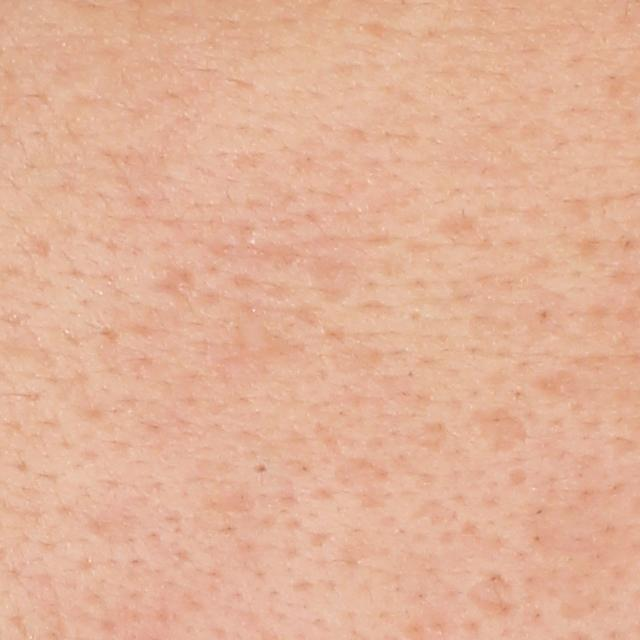atrophic_scar: (213, 304, 311, 385), (303, 233, 376, 307), (455, 566, 518, 627), (470, 404, 531, 454), (151, 260, 196, 296), (436, 206, 469, 242)
comedo: (247, 459, 274, 478)
